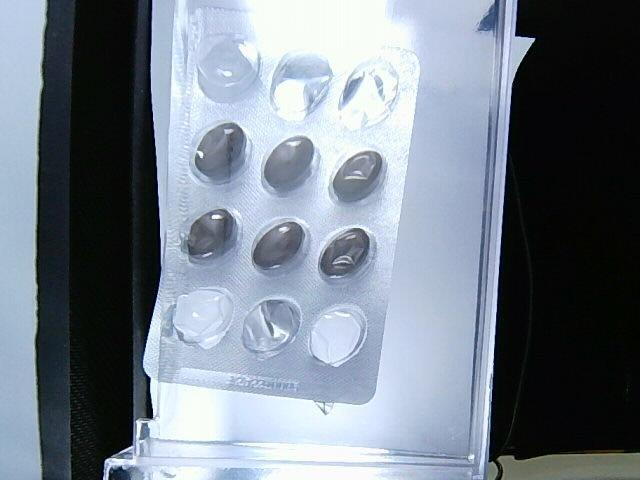Light Front: (144, 0, 421, 406)
No Pill Front: (338, 59, 399, 130), (196, 34, 259, 102), (270, 53, 332, 121), (173, 290, 233, 348), (309, 305, 366, 365), (243, 299, 301, 357)
Pill Front: (193, 123, 251, 183), (261, 135, 318, 193), (181, 209, 239, 263), (251, 219, 309, 272), (319, 228, 371, 278), (333, 151, 383, 201)
